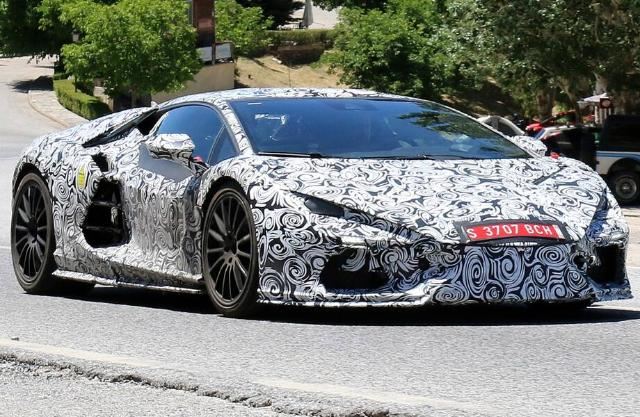lamborghini: (11, 87, 634, 315)
